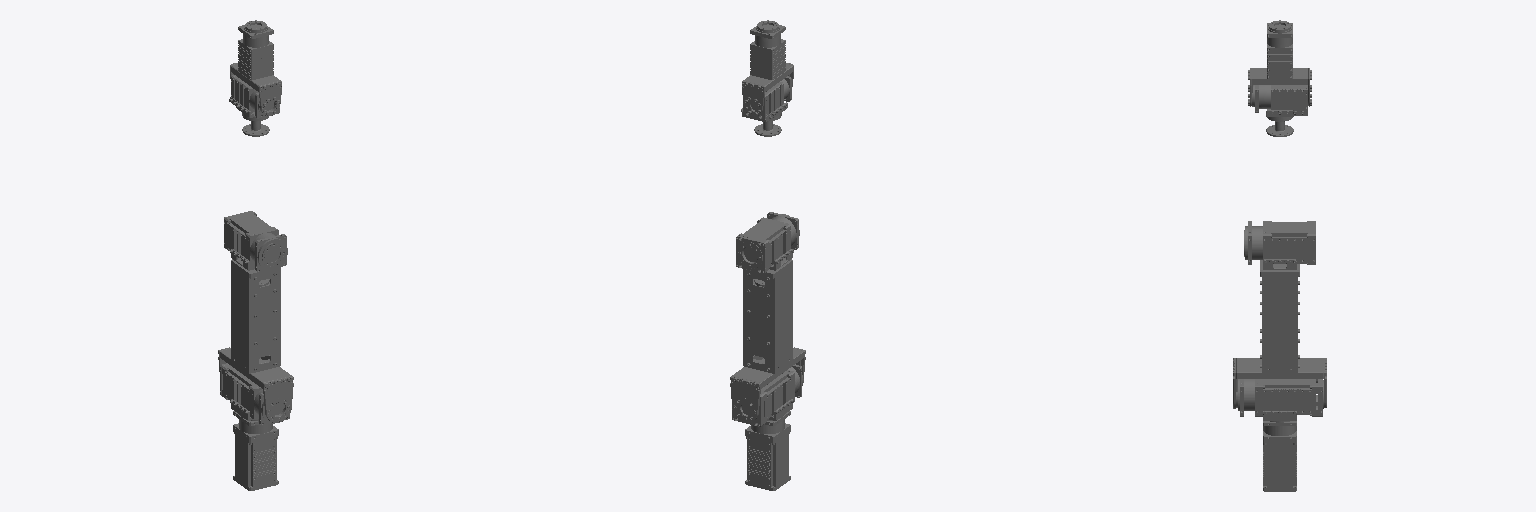
The robot description file, URDF, robot "open_manipulator_7dof":
<?xml version="1.0" encoding="utf-8"?>
<!-- =================================================================================== -->
<!-- |    This document was autogenerated by xacro from open_manipulator_7dof_robot.urdf.xacro | -->
<!-- |    EDITING THIS FILE BY HAND IS NOT RECOMMENDED                                 | -->
<!-- =================================================================================== -->
<robot name="open_manipulator_7dof">
  <material name="black">
    <color rgba="0.0 0.0 0.0 1.0"/>
  </material>
  <material name="blue">
    <color rgba="0.0 0.0 0.8 1.0"/>
  </material>
  <material name="green">
    <color rgba="0.0 0.8 0.0 1.0"/>
  </material>
  <material name="grey">
    <color rgba="0.5 0.5 0.5 1.0"/>
  </material>
  <material name="orange">
    <color rgba="1.0 0.423529411765 0.0392156862745 1.0"/>
  </material>
  <material name="brown">
    <color rgba="0.870588235294 0.811764705882 0.764705882353 1.0"/>
  </material>
  <material name="red">
    <color rgba="0.8 0.0 0.0 1.0"/>
  </material>
  <material name="white">
    <color rgba="1.0 1.0 1.0 1.0"/>
  </material>
  <!-- World -->
  <gazebo reference="world"/>
  <gazebo reference="link1">
    <kp>1000000.0</kp>
    <kd>100.0</kd>
    <mu1>30.0</mu1>
    <mu2>30.0</mu2>
    <maxVel>1.0</maxVel>
    <minDepth>0.001</minDepth>
    <material>Gazebo/DarkGrey</material>
  </gazebo>
  <gazebo reference="link2">
    <kp>1000000.0</kp>
    <kd>100.0</kd>
    <mu1>30.0</mu1>
    <mu2>30.0</mu2>
    <maxVel>1.0</maxVel>
    <minDepth>0.001</minDepth>
    <material>Gazebo/DarkGrey</material>
  </gazebo>
  <gazebo reference="link3">
    <kp>1000000.0</kp>
    <kd>100.0</kd>
    <mu1>30.0</mu1>
    <mu2>30.0</mu2>
    <maxVel>1.0</maxVel>
    <minDepth>0.001</minDepth>
    <material>Gazebo/DarkGrey</material>
  </gazebo>
  <gazebo reference="link4">
    <kp>1000000.0</kp>
    <kd>100.0</kd>
    <mu1>30.0</mu1>
    <mu2>30.0</mu2>
    <maxVel>1.0</maxVel>
    <minDepth>0.001</minDepth>
    <material>Gazebo/DarkGrey</material>
  </gazebo>
  <gazebo reference="link5">
    <kp>1000000.0</kp>
    <kd>100.0</kd>
    <mu1>30.0</mu1>
    <mu2>30.0</mu2>
    <maxVel>1.0</maxVel>
    <minDepth>0.001</minDepth>
    <material>Gazebo/DarkGrey</material>
  </gazebo>
  <gazebo reference="link6">
    <kp>1000000.0</kp>
    <kd>100.0</kd>
    <mu1>30.0</mu1>
    <mu2>30.0</mu2>
    <maxVel>1.0</maxVel>
    <minDepth>0.001</minDepth>
    <material>Gazebo/DarkGrey</material>
  </gazebo>
  <gazebo reference="link7">
    <kp>1000000.0</kp>
    <kd>100.0</kd>
    <mu1>30.0</mu1>
    <mu2>30.0</mu2>
    <maxVel>1.0</maxVel>
    <minDepth>0.001</minDepth>
    <material>Gazebo/DarkGrey</material>
  </gazebo>
  <gazebo reference="end_link">
    <kp>1000000.0</kp>
    <kd>100.0</kd>
    <mu1>30.0</mu1>
    <mu2>30.0</mu2>
    <maxVel>1.0</maxVel>
    <minDepth>0.001</minDepth>
    <material>Gazebo/DarkGrey</material>
  </gazebo>
  <!-- ros_control plugin -->
  <gazebo>
    <plugin filename="libgazebo_ros_control.so" name="gazebo_ros_control">
      <robotSimType>gazebo_ros_control/DefaultRobotHWSim</robotSimType>
    </plugin>
  </gazebo>
  <transmission name="tran1">
    <type>transmission_interface/SimpleTransmission</type>
    <joint name="joint1">
      <hardwareInterface>hardware_interface/PositionJointInterface</hardwareInterface>
    </joint>
    <actuator name="motor1">
      <mechanicalReduction>1</mechanicalReduction>
    </actuator>
  </transmission>
  <transmission name="tran2">
    <type>transmission_interface/SimpleTransmission</type>
    <joint name="joint2">
      <hardwareInterface>hardware_interface/PositionJointInterface</hardwareInterface>
    </joint>
    <actuator name="motor2">
      <mechanicalReduction>1</mechanicalReduction>
    </actuator>
  </transmission>
  <transmission name="tran3">
    <type>transmission_interface/SimpleTransmission</type>
    <joint name="joint3">
      <hardwareInterface>hardware_interface/PositionJointInterface</hardwareInterface>
    </joint>
    <actuator name="motor3">
      <mechanicalReduction>1</mechanicalReduction>
    </actuator>
  </transmission>
  <transmission name="tran4">
    <type>transmission_interface/SimpleTransmission</type>
    <joint name="joint4">
      <hardwareInterface>hardware_interface/PositionJointInterface</hardwareInterface>
    </joint>
    <actuator name="motor4">
      <mechanicalReduction>1</mechanicalReduction>
    </actuator>
  </transmission>
  <transmission name="tran5">
    <type>transmission_interface/SimpleTransmission</type>
    <joint name="joint5">
      <hardwareInterface>hardware_interface/PositionJointInterface</hardwareInterface>
    </joint>
    <actuator name="motor5">
      <mechanicalReduction>1</mechanicalReduction>
    </actuator>
  </transmission>
  <transmission name="tran6">
    <type>transmission_interface/SimpleTransmission</type>
    <joint name="joint6">
      <hardwareInterface>hardware_interface/PositionJointInterface</hardwareInterface>
    </joint>
    <actuator name="motor6">
      <mechanicalReduction>1</mechanicalReduction>
    </actuator>
  </transmission>
  <transmission name="tran7">
    <type>transmission_interface/SimpleTransmission</type>
    <joint name="joint7">
      <hardwareInterface>hardware_interface/PositionJointInterface</hardwareInterface>
    </joint>
    <actuator name="motor7">
      <mechanicalReduction>1</mechanicalReduction>
    </actuator>
  </transmission>
  <!-- link 1 -->
  <link name="link1">
    <visual>
      <origin rpy="1.57079632679 0 1.57079632679" xyz="0 0 0"/>
      <geometry>
        <mesh filename="package://open_manipulator_7dof_description/meshes/link1.stl" scale="0.001 0.001 0.001"/>
      </geometry>
      <material name="grey"/>
    </visual>
    <collision>
      <origin rpy="1.57079632679 0 1.57079632679" xyz="0 0 0"/>
      <geometry>
        <mesh filename="package://open_manipulator_7dof_description/meshes/link1.stl" scale="0.001 0.001 0.001"/>
      </geometry>
    </collision>
    <inertial>
      <origin rpy="0 0 0" xyz="0.00023 0.00000 0.06223"/>
      <mass value="0.85644"/>
      <inertia ixx="1.0" ixy="0.0" ixz="0.0" iyy="1.0" iyz="0.0" izz="1.0"/>
      <!--<inertia ixx="0.00121064" ixy="0.0" ixz="0.00001100" iyy="0.00120886" iyz="0.0" izz="0.00038103" />-->
    </inertial>
  </link>
  <!-- Joint 1 -->
  <joint name="joint1" type="revolute">
    <parent link="link1"/>
    <child link="link2"/>
    <origin rpy="0 0 0" xyz="0.0 0.0 0.124"/>
    <axis xyz="0 0 1"/>
    <limit effort="1000" lower="-1.57079632679" upper="1.57079632679" velocity="6.5"/>
    <dynamics damping="0.7"/>
  </joint>
  <!-- link 2 -->
  <link name="link2">
    <visual>
      <origin rpy="1.57079632679 0 1.57079632679" xyz="0 0 0"/>
      <geometry>
        <mesh filename="package://open_manipulator_7dof_description/meshes/link2.stl" scale="0.001 0.001 0.001"/>
      </geometry>
      <material name="grey"/>
    </visual>
    <collision>
      <origin rpy="1.57079632679 0 1.57079632679" xyz="0 0 0"/>
      <geometry>
        <mesh filename="package://open_manipulator_7dof_description/meshes/link2.stl" scale="0.001 0.001 0.001"/>
      </geometry>
    </collision>
    <inertial>
      <origin rpy="0 0 0" xyz="0.00000 0.00080 0.03183"/>
      <!--<origin xyz="0.00000 -0.06820 -0.00117" rpy="0 0 0"/>-->
      <mass value="0.94658"/>
      <inertia ixx="1.0" ixy="0.0" ixz="0.0" iyy="1.0" iyz="0.0" izz="1.0"/>
      <!--<inertia ixx="0.00152547" ixy="0.0" ixz="0.0" iyy="0.00045954" iyz="-0.00001086" izz="0.00151740" />-->
    </inertial>
  </link>
  <!-- Joint 2 -->
  <joint name="joint2" type="revolute">
    <parent link="link2"/>
    <child link="link3"/>
    <origin rpy="0 0 0" xyz="0.0 0.0 0.033"/>
    <axis xyz="0 1 0"/>
    <limit effort="1000" lower="-1.57079632679" upper="1.57079632679" velocity="6.5"/>
    <dynamics damping="0.7"/>
  </joint>
  <!-- link 3 -->
  <link name="link3">
    <visual>
      <origin rpy="1.57079632679 0 1.57079632679" xyz="0 -0.069 0.0"/>
      <geometry>
        <mesh filename="package://open_manipulator_7dof_description/meshes/link3.stl" scale="0.001 0.001 0.001"/>
      </geometry>
      <material name="grey"/>
    </visual>
    <collision>
      <origin rpy="1.57079632679 0 1.57079632679" xyz="0 -0.069 0.0"/>
      <geometry>
        <mesh filename="package://open_manipulator_7dof_description/meshes/link3.stl" scale="0.001 0.001 0.001"/>
      </geometry>
    </collision>
    <inertial>
      <origin rpy="0 0 0" xyz="0.01768 -0.06881 0.20524"/>
      <!--<origin xyz="-0.01232 -0.05731 -0.05876" rpy="0 0 0"/>-->
      <mass value="1.30260"/>
      <inertia ixx="1.0" ixy="0.0" ixz="0.0" iyy="1.0" iyz="0.0" izz="1.0"/>
      <!--<inertia ixx="0.01111021" ixy="0.00001331" ixz="-0.00134208" iyy="0.01046642" iyz="0.00016235" izz="0.00202081" />-->
    </inertial>
  </link>
  <!-- Joint 3 -->
  <joint name="joint3" type="revolute">
    <parent link="link3"/>
    <child link="link4"/>
    <origin rpy="0 0 0" xyz="0.0 0.0 0.195"/>
    <axis xyz="0 0 1"/>
    <limit effort="1000" lower="-1.57079632679" upper="1.57079632679" velocity="6.5"/>
    <dynamics damping="0.7"/>
  </joint>
  <!-- link 4 -->
  <link name="link4">
    <visual>
      <origin rpy="1.57079632679 0 1.57079632679" xyz="0 0 0"/>
      <geometry>
        <mesh filename="package://open_manipulator_7dof_description/meshes/link4.stl" scale="0.001 0.001 0.001"/>
      </geometry>
      <material name="grey"/>
    </visual>
    <collision>
      <origin rpy="1.57079632679 0 1.57079632679" xyz="0 0 0"/>
      <geometry>
        <mesh filename="package://open_manipulator_7dof_description/meshes/link4.stl" scale="0.001 0.001 0.001"/>
      </geometry>
    </collision>
    <inertial>
      <origin rpy="0 0 0" xyz="0.12475 -0.05716 0.02979"/>
      <!--<origin xyz="-0.07025 0.00034 -0.00021" rpy="0 0 0"/>-->
      <mass value="1.15977"/>
      <inertia ixx="1.0" ixy="0.0" ixz="0.0" iyy="1.0" iyz="0.0" izz="1.0"/>
      <!--<inertia ixx="0.00096726" ixy="0.00004383" ixz="-0.00002771" iyy="0.00318801" iyz="0.00000627" izz="0.00341484" />-->
    </inertial>
  </link>
  <!-- Joint 4 -->
  <joint name="joint4" type="revolute">
    <parent link="link4"/>
    <child link="link5"/>
    <origin rpy="0 0 0" xyz="0.0 0.0 0.069"/>
    <axis xyz="0 1 0"/>
    <limit effort="1000" lower="-1.57079632679" upper="1.57079632679" velocity="6.5"/>
    <dynamics damping="0.7"/>
  </joint>
  <!-- link 5 -->
  <link name="link5">
    <visual>
      <origin rpy="1.57079632679 0 1.57079632679" xyz="0 -0.057 0"/>
      <geometry>
        <mesh filename="package://open_manipulator_7dof_description/meshes/link5.stl" scale="0.001 0.001 0.001"/>
      </geometry>
      <material name="grey"/>
    </visual>
    <collision>
      <origin rpy="1.57079632679 0 1.57079632679" xyz="0 -0.057 0"/>
      <geometry>
        <mesh filename="package://open_manipulator_7dof_description/meshes/link5.stl" scale="0.001 0.001 0.001"/>
      </geometry>
    </collision>
    <inertial>
      <origin rpy="0 0 0" xyz="0.05642 -0.00217 0.00002"/>
      <!--<origin xyz="-0.00658 -0.04717 0.00002" rpy="0 0 0"/>-->
      <mass value="0.44688"/>
      <inertia ixx="1.0" ixy="0.0" ixz="0.0" iyy="1.0" iyz="0.0" izz="1.0"/>
      <!--<inertia ixx="0.00030285" ixy="0.00000761" ixz="0.00000031" iyy="0.00022339" iyz="-0.00000001" izz="0.00039766" />-->
    </inertial>
  </link>
  <!-- Joint 5 -->
  <joint name="joint5" type="revolute">
    <parent link="link5"/>
    <child link="link6"/>
    <origin rpy="0 0 0" xyz="0.0 0.0 0.195"/>
    <axis xyz="0 0 1"/>
    <limit effort="1000" lower="-1.57079632679" upper="1.57079632679" velocity="6.5"/>
    <dynamics damping="0.7"/>
  </joint>
  <!-- link 6 -->
  <link name="link6">
    <visual>
      <origin rpy="1.57079632679 0 1.57079632679" xyz="0 0 0"/>
      <geometry>
        <mesh filename="package://open_manipulator_7dof_description/meshes/link6.stl" scale="0.001 0.001 0.001"/>
      </geometry>
      <material name="grey"/>
    </visual>
    <collision>
      <origin rpy="1.57079632679 0 1.57079632679" xyz="0 0 0"/>
      <geometry>
        <mesh filename="package://open_manipulator_7dof_description/meshes/link6.stl" scale="0.001 0.001 0.001"/>
      </geometry>
    </collision>
    <inertial>
      <origin rpy="0 0 0" xyz="0.06831 -0.04457 0.00000"/>
      <!--<origin xyz="-0.05469 0.00043 0.00000" rpy="0 0 0"/>-->
      <mass value="0.43273"/>
      <inertia ixx="1.0" ixy="0.0" ixz="0.0" iyy="1.0" iyz="0.0" izz="1.0"/>
      <!--<inertia ixx="0.00021512" ixy="0.00001009" ixz="0.00000000" iyy="0.00042827" iyz="0.00000000" izz="0.00051436" />-->
    </inertial>
  </link>
  <!-- Joint 6 -->
  <joint name="joint6" type="revolute">
    <parent link="link6"/>
    <child link="link7"/>
    <origin rpy="0 0 0" xyz="0.0 0.0 0.063"/>
    <axis xyz="0 1 0"/>
    <limit effort="1000" lower="-1.57079632679" upper="1.57079632679" velocity="6.5"/>
    <dynamics damping="0.7"/>
  </joint>
  <!-- link 7 -->
  <link name="link7">
    <visual>
      <origin rpy="1.57079632679 0 1.57079632679" xyz="0 -0.045 0"/>
      <geometry>
        <mesh filename="package://open_manipulator_7dof_description/meshes/link7.stl" scale="0.001 0.001 0.001"/>
      </geometry>
      <material name="grey"/>
    </visual>
    <collision>
      <origin rpy="1.57079632679 0 1.57079632679" xyz="0 -0.045 0"/>
      <geometry>
        <mesh filename="package://open_manipulator_7dof_description/meshes/link7.stl" scale="0.001 0.001 0.001"/>
      </geometry>
    </collision>
    <inertial>
      <origin rpy="0 0 0" xyz="0.06831 -0.04457 0.00000"/>
      <!--<origin xyz="-0.05469 0.00043 0.00000" rpy="0 0 0"/>-->
      <mass value="0.43273"/>
      <inertia ixx="1.0" ixy="0.0" ixz="0.0" iyy="1.0" iyz="0.0" izz="1.0"/>
      <!--<inertia ixx="0.00021512" ixy="0.00001009" ixz="0.00000000" iyy="0.00042827" iyz="0.00000000" izz="0.00051436" />-->
    </inertial>
  </link>
  <!-- Joint 7 -->
  <joint name="joint7" type="revolute">
    <parent link="link7"/>
    <child link="end_link"/>
    <origin rpy="0 0 0" xyz="0.0 0.0 0.12300"/>
    <axis xyz="0 0 1"/>
    <limit effort="1000" lower="-1.57079632679" upper="1.57079632679" velocity="6.5"/>
    <dynamics damping="0.7"/>
  </joint>
  <!-- end link -->
  <link name="end_link">
    <visual>
      <origin rpy="0 -1.57079632679 -1.57079632679" xyz="0.0 0.0 0.0"/>
      <geometry>
        <mesh filename="package://open_manipulator_7dof_description/meshes/end_link.stl" scale="0.001 0.001 0.001"/>
      </geometry>
      <material name="grey"/>
    </visual>
    <collision>
      <origin rpy="0 -1.57079632679 -1.57079632679" xyz="0.0 0.0 0.0"/>
      <geometry>
        <mesh filename="package://open_manipulator_7dof_description/meshes/end_link.stl" scale="0.001 0.001 0.001"/>
      </geometry>
    </collision>
    <inertial>
      <origin rpy="0 0 0" xyz="0.00337 0.00000 0.00000"/>
      <mass value="0.01919"/>
      <inertia ixx="1.0" ixy="0.0" ixz="0.0" iyy="1.0" iyz="0.0" izz="1.0"/>
      <!--<inertia ixx="0.00000938" ixy="0.0" ixz="0.0" iyy="0.00000338" iyz="0.0" izz="0.00000635" />-->
    </inertial>
  </link>
  <!-- World -->
  <link name="world"/>
  <!-- World fixed joint-->
  <joint name="world_fixed" type="fixed">
    <origin rpy="0 0 0" xyz="0 0 0"/>
    <parent link="world"/>
    <child link="link1"/>
  </joint>
</robot>

--- Render facts (derived) ---
3 views of the same robot in one strip: view 1: azimuth 30°, elevation 25°; view 2: azimuth 150°, elevation 25°; view 3: azimuth 270°, elevation 25° (orthographic).
Model open_manipulator_7dof with 9 links and 8 joints (7 revolute, 1 fixed), rooted at world, posed all joints at 0.
Links seen in each view (by area): view 1: link3, link4, link1, link7, link2, link6; view 2: link3, link4, link7, link1, link2, link6; view 3: link3, link2, link4, link7, link1, link6.
Link boxes in pixels (bbox=[...]): link3: bbox=[218, 259, 293, 422]; link4: bbox=[224, 211, 287, 286]; link1: bbox=[233, 411, 278, 490]; link7: bbox=[230, 20, 281, 115]; link2: bbox=[220, 363, 289, 425]; link6: bbox=[229, 75, 279, 136]; link3: bbox=[730, 259, 805, 419]; link4: bbox=[736, 212, 799, 286]; link7: bbox=[742, 20, 793, 115]; link1: bbox=[745, 411, 790, 490]; link2: bbox=[732, 365, 803, 426]; link6: bbox=[741, 76, 791, 136]; link3: bbox=[1233, 260, 1326, 408]; link2: bbox=[1236, 379, 1323, 420]; link4: bbox=[1244, 221, 1315, 269]; link7: bbox=[1248, 20, 1311, 106]; link1: bbox=[1263, 421, 1296, 491]; link6: bbox=[1252, 85, 1307, 136].
Bounding box of the posed robot: 0.066 × 0.15 × 0.802 m (x, y, z).
Meshes: 8 distinct files referenced, 6 mesh visuals loaded (6 binary STL); not drawn: 2 (reference not matched to a file when rendering).